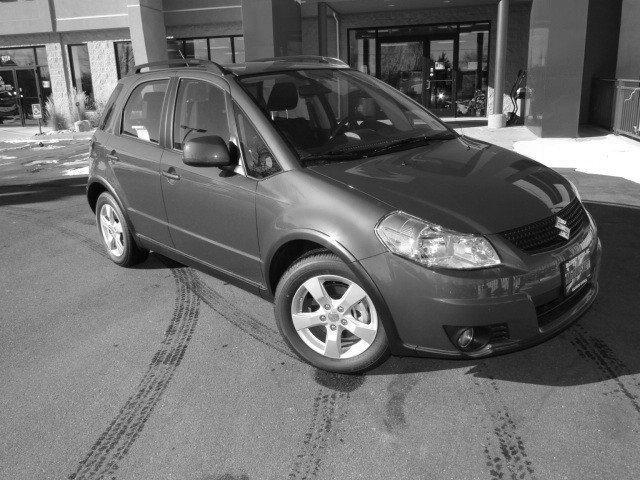car: (86, 45, 603, 375)
